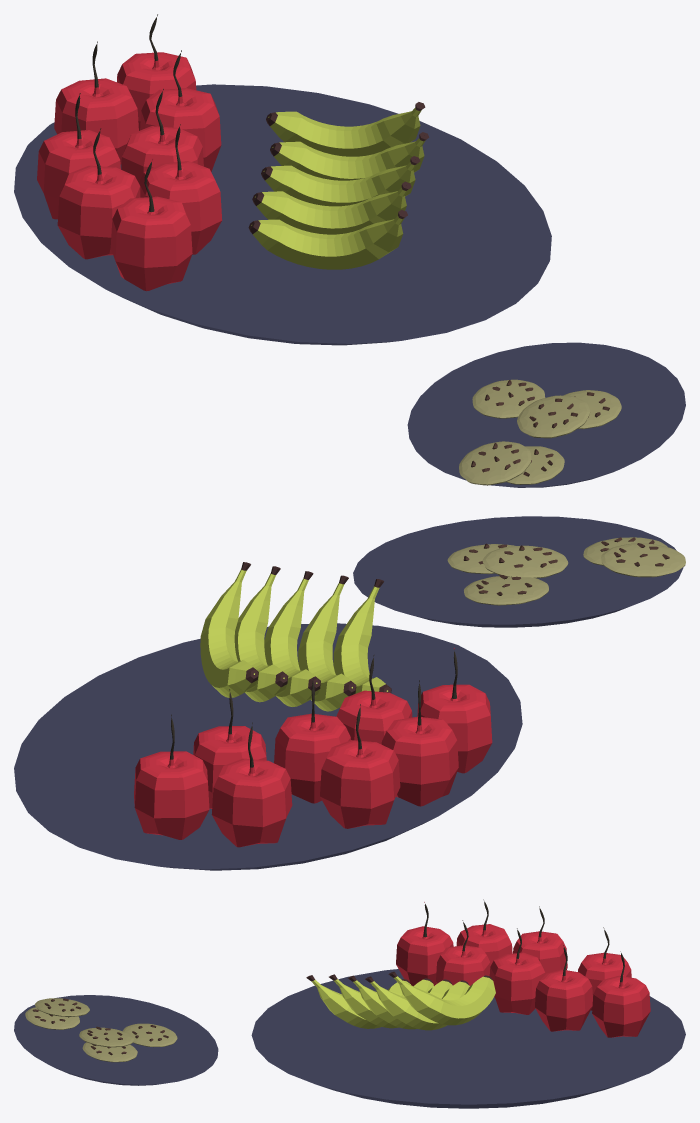
Rendered from Alimentos-Modelos3D.fbx.
3 views of the same model, one above another, from view 1: azimuth 30°, elevation 25°; view 2: azimuth 150°, elevation 25°; view 3: azimuth 270°, elevation 25° (orthographic). The views are drawn at different scales.
Visible parts, largest first — view 1: Bandeija, Maças, Bandeija.001, Bananas, Biscoito; view 2: Bandeija, Maças, Bandeija.001, Bananas, Biscoito; view 3: Bandeija, Maças, Bandeija.001, Bananas, Biscoito.
Boxes of the visible parts, x1=… form: Bandeija: x1=14, y1=84, x2=551, y2=345; Maças: x1=37, y1=14, x2=222, y2=291; Bandeija.001: x1=407, y1=342, x2=685, y2=487; Bananas: x1=248, y1=102, x2=429, y2=269; Biscoito: x1=459, y1=379, x2=621, y2=485; Bandeija: x1=14, y1=623, x2=522, y2=870; Maças: x1=134, y1=648, x2=492, y2=847; Bandeija.001: x1=353, y1=516, x2=683, y2=627; Bananas: x1=200, y1=562, x2=391, y2=711; Biscoito: x1=447, y1=537, x2=685, y2=605; Bandeija: x1=251, y1=969, x2=685, y2=1108; Maças: x1=396, y1=899, x2=650, y2=1037; Bandeija.001: x1=14, y1=995, x2=218, y2=1085; Bananas: x1=306, y1=971, x2=495, y2=1030; Biscoito: x1=25, y1=998, x2=177, y2=1062.
Bounding box in the file's own units: 78.66 × 26.25 × 160.
